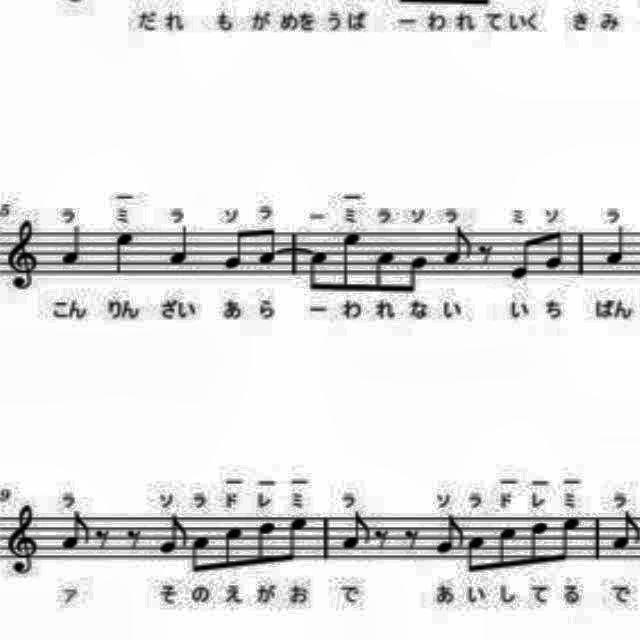Eighth-note: (156, 512, 192, 560), (54, 511, 94, 554), (441, 222, 473, 274), (338, 509, 374, 555), (433, 513, 467, 561), (341, 227, 365, 295), (558, 512, 582, 568), (610, 511, 640, 554), (220, 518, 243, 574), (284, 512, 308, 564), (372, 244, 396, 296), (509, 236, 535, 284), (466, 528, 490, 578), (498, 514, 518, 574), (526, 519, 550, 569), (222, 227, 248, 271), (307, 248, 333, 292), (255, 520, 278, 568), (406, 250, 429, 296), (542, 228, 566, 272), (257, 226, 279, 270), (189, 532, 211, 576)
Eighth-rest: (474, 235, 498, 273), (370, 520, 394, 556), (400, 522, 422, 558), (122, 522, 146, 554), (92, 522, 112, 554)
Quarter-note: (164, 224, 200, 272), (600, 222, 632, 272), (58, 224, 86, 272), (114, 228, 134, 280)
Treble-clef: (4, 498, 44, 582), (5, 214, 43, 298)
